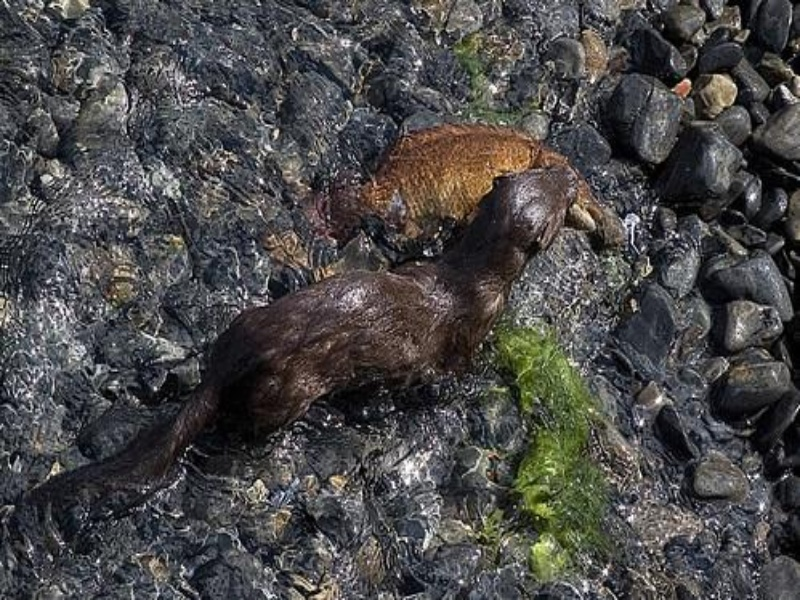minkish: (9, 162, 581, 555)
